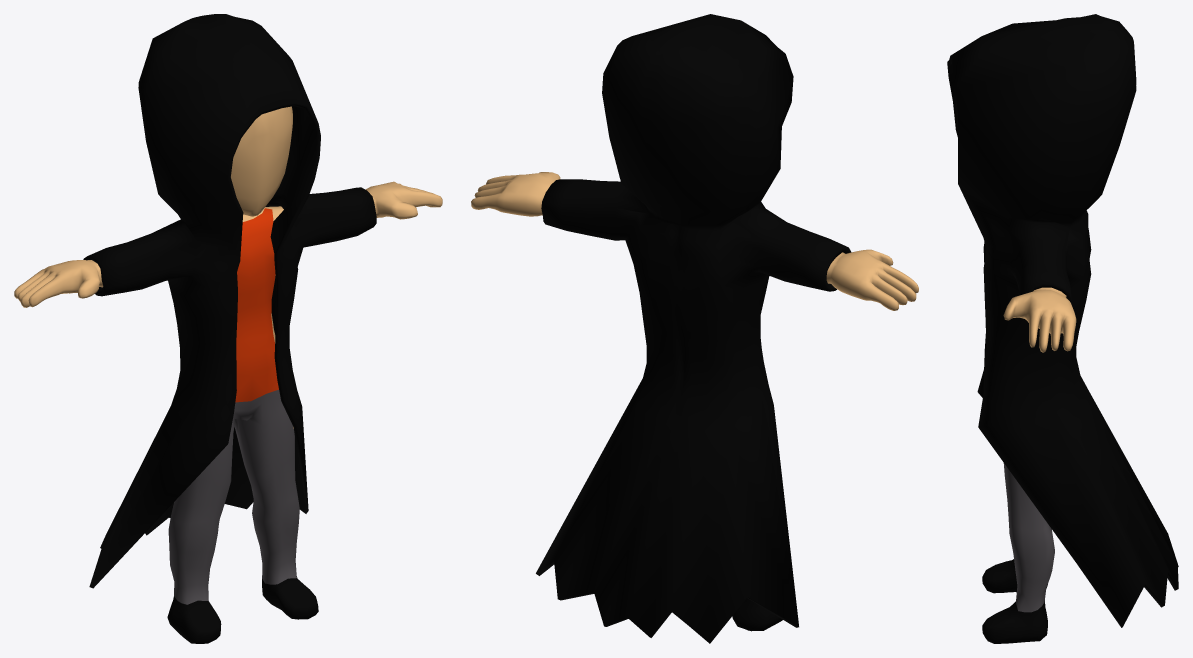
Rendered from Character.fbx.
3 renders of one model, left to right at view 1: azimuth 30°, elevation 25°; view 2: azimuth 150°, elevation 25°; view 3: azimuth 270°, elevation 25°, orthographic. The views are drawn at different scales.
Parts seen in each view (by area): view 1: Cube; view 2: Cube; view 3: Cube.
Part boxes in pixels (<box>): Cube: <box>14,14,442,643</box>; Cube: <box>471,14,918,643</box>; Cube: <box>947,14,1178,643</box>.
Size of the model in its own units: 466 by 609 by 216.
